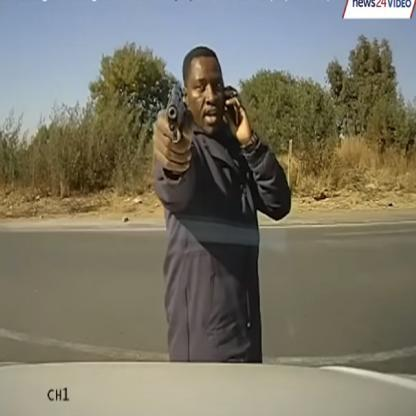criminal: (153, 47, 293, 363)
weapon: (164, 81, 187, 145)
